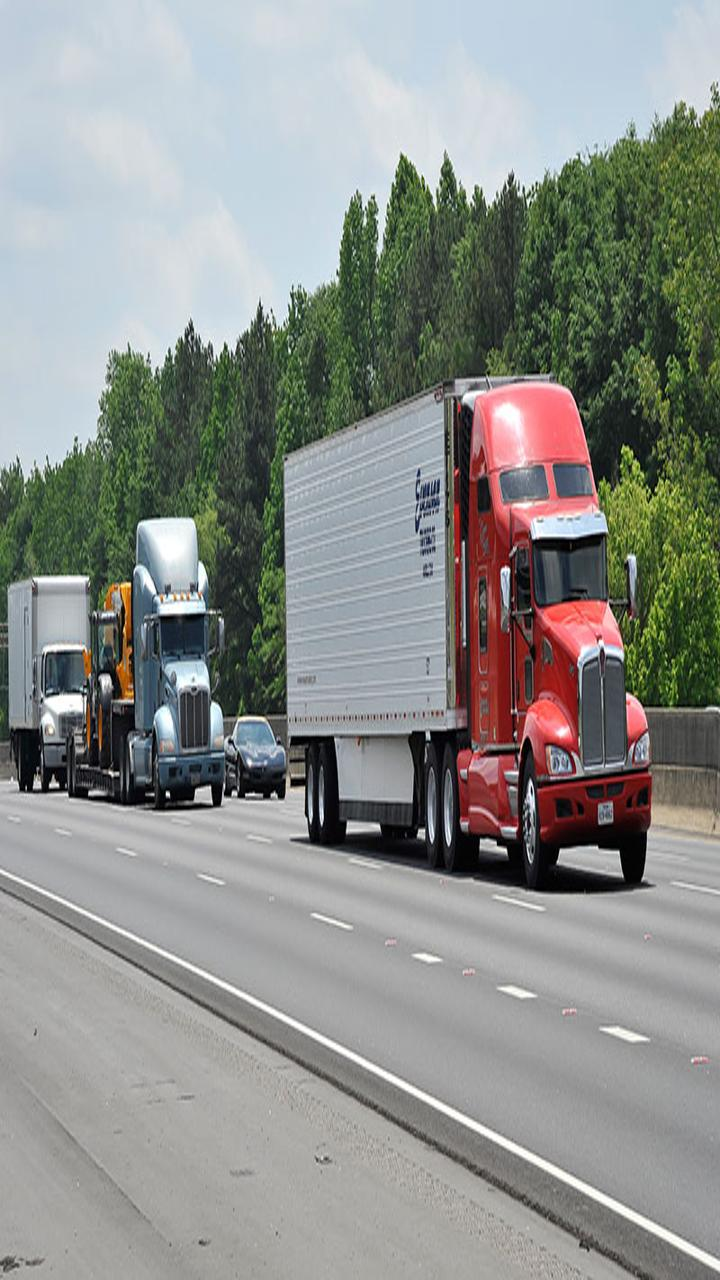vehicle: (264, 413, 659, 875), (88, 513, 226, 812), (1, 525, 90, 809), (224, 678, 302, 828)
